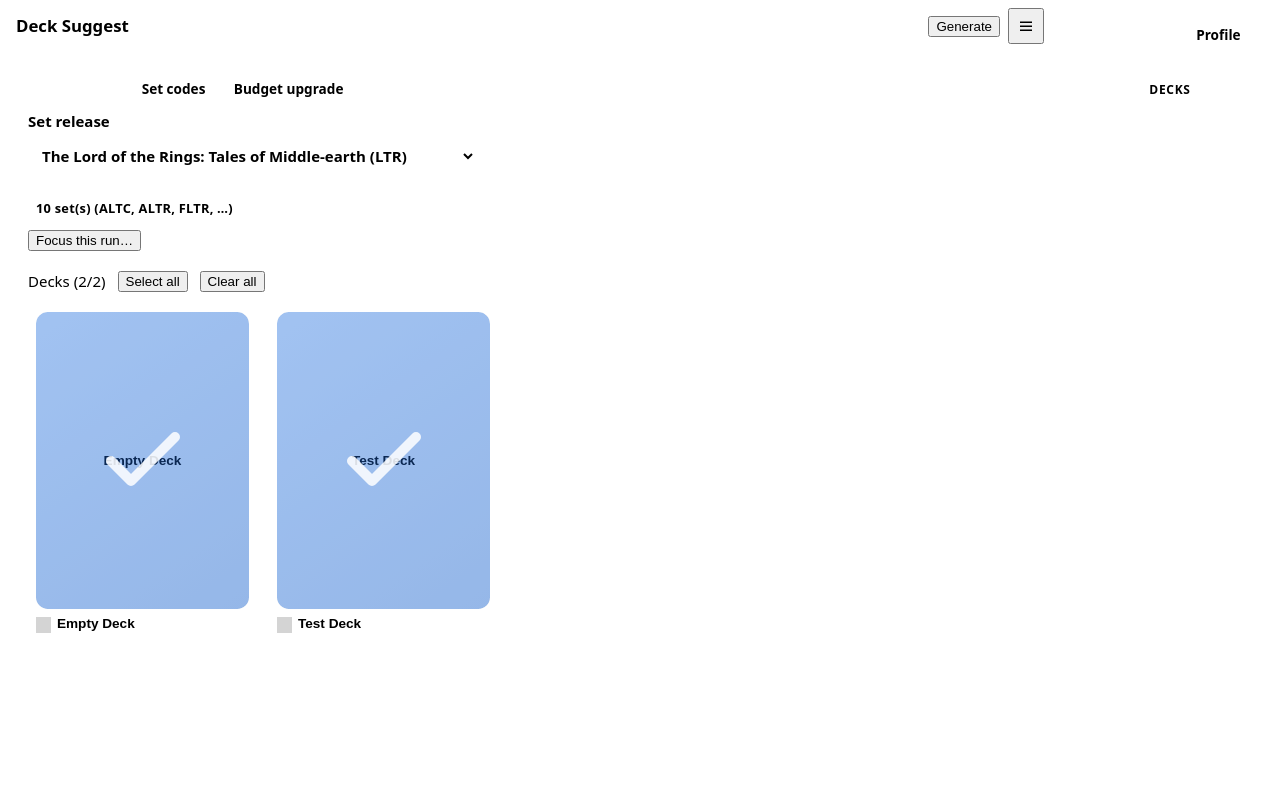
DeckSuggestSetup › shows release dropdown by default and set-codes mode
Check: the tab "Budget upgrade" is shown, box [223,76,355,101]
Check: the dropdown showing "Lord of the Rings" is shown, box [28,137,476,175]
Click the tab "Set codes" at (174, 89), box [130,76,217,101]
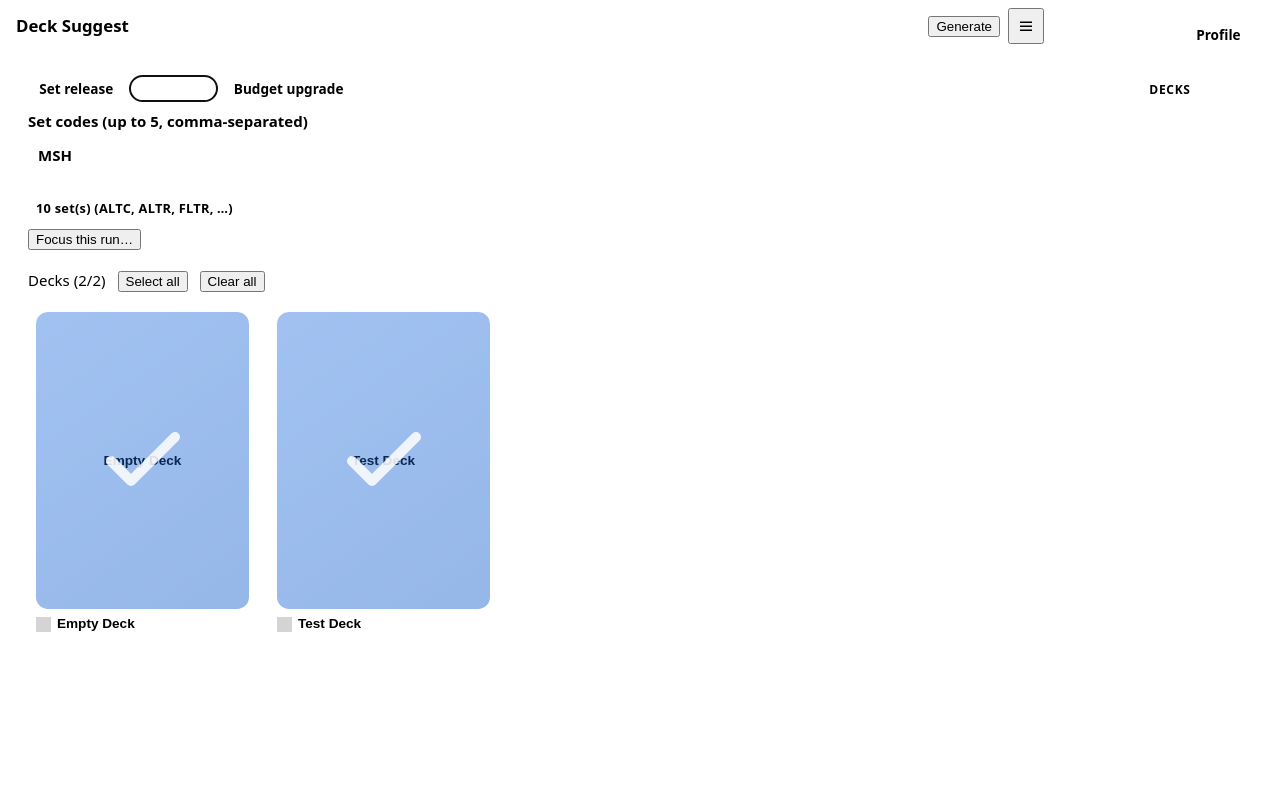
Check: the field labelled "Set codes (up to 5, comma-separated)" is shown, box [28,137,476,175]
